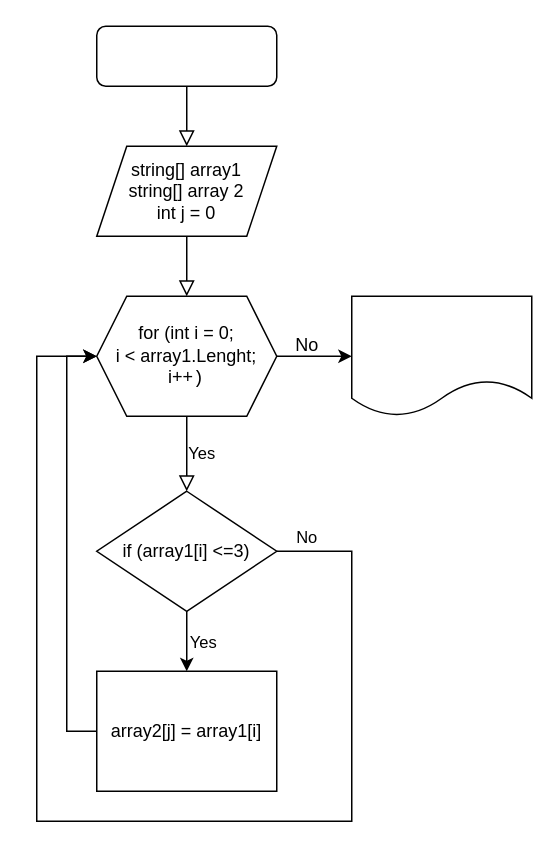
This 558x860 diagram has some shape labels left out. Each missing label, with the centre of its shape:
"array1 elements inserted" goes at (x=186, y=55).
"Print array2" goes at (x=441, y=355).
